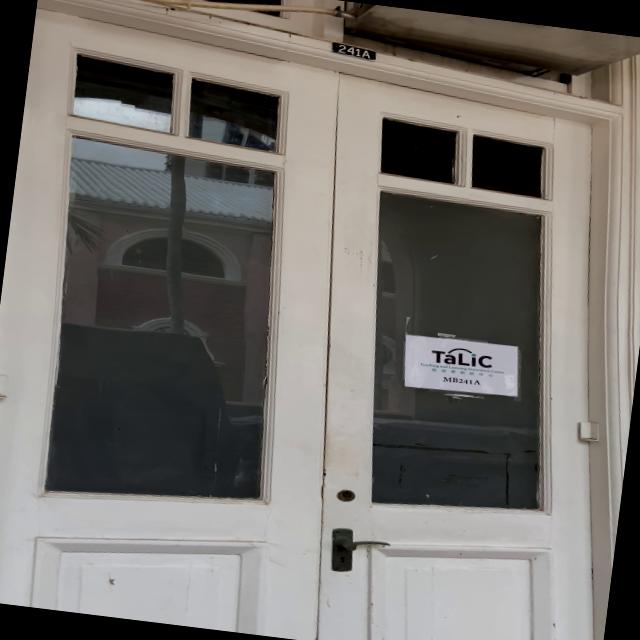room241a: (326, 39, 381, 63)
